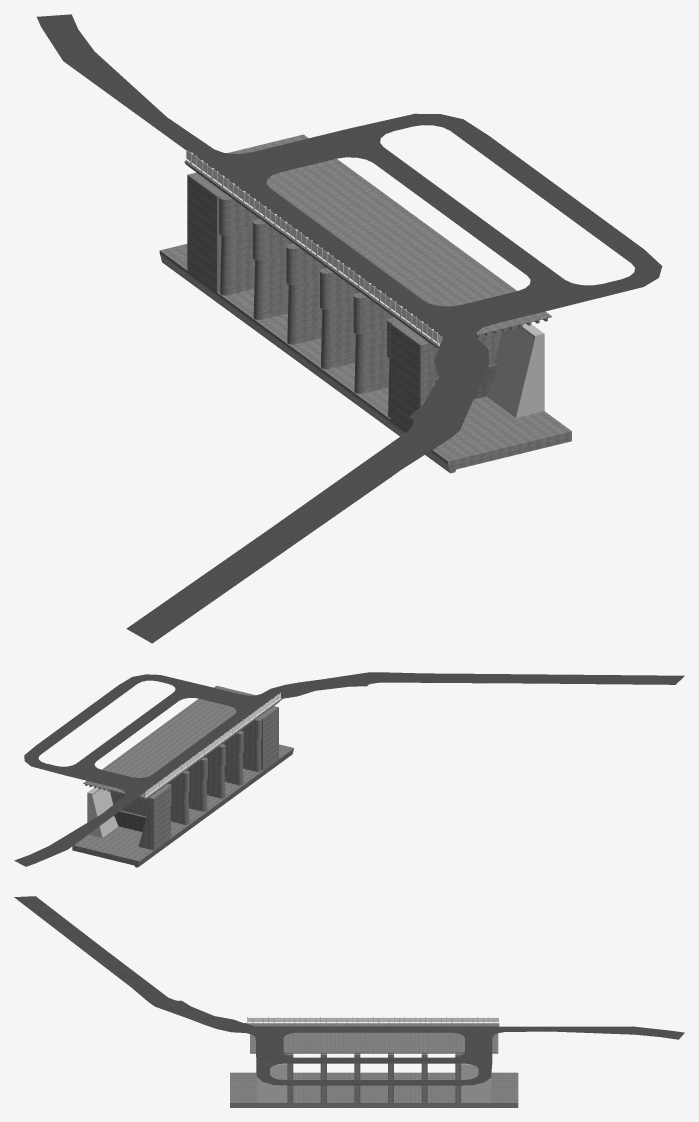
The model's file is laozha2018bi.fbx.
The picture shows the model from 3 angles, top to bottom: view 1: azimuth 30°, elevation 25°; view 2: azimuth 150°, elevation 25°; view 3: azimuth 270°, elevation 25°; orthographic projection. The views are drawn at different scales.
Visible parts, largest first — view 1: Mesh (×5); view 2: Mesh (×5); view 3: Mesh (×5).
Boxes of the visible parts, bbox=[...] form: Mesh (×5): bbox=[37, 14, 662, 643]; Mesh (×5): bbox=[14, 672, 684, 867]; Mesh (×5): bbox=[14, 896, 684, 1107].
Size of the model in its own units: 16288 by 2546 by 24361.
